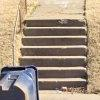stairs: (87, 5, 100, 55)
